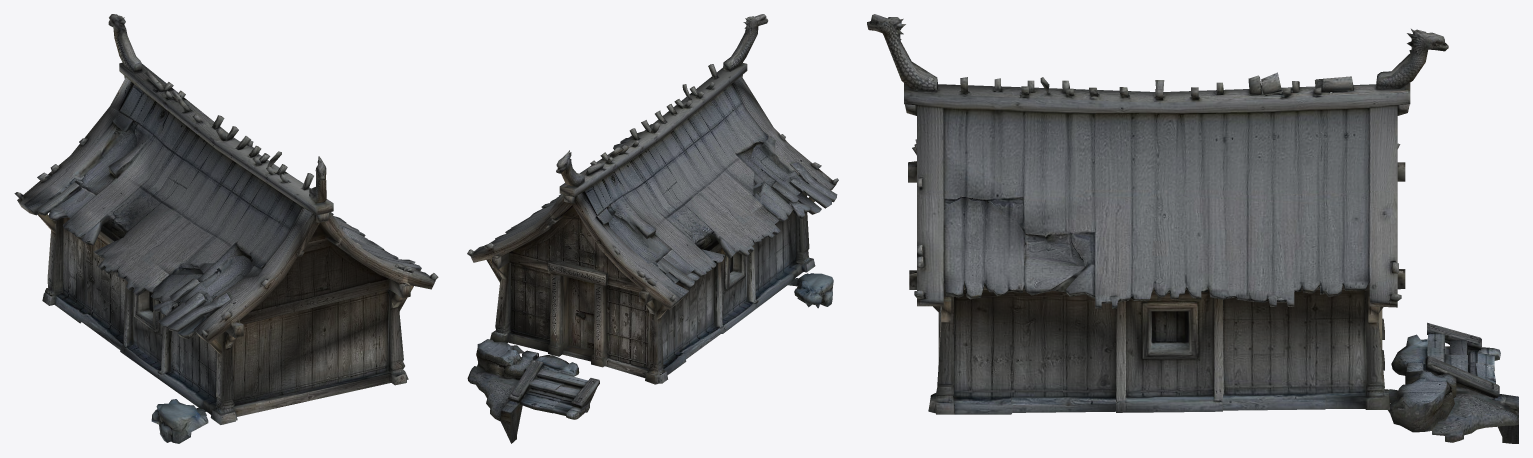
Rendered from frostborn_mead_hall.glb.
3 renders of one model, left to right at view 1: azimuth 30°, elevation 25°; view 2: azimuth 150°, elevation 25°; view 3: azimuth 270°, elevation 25°, orthographic. The views are drawn at different scales.
Size of the model in its own units: 3.34 by 4 by 5.79.
Materials: 1 (1 with a texture image).
